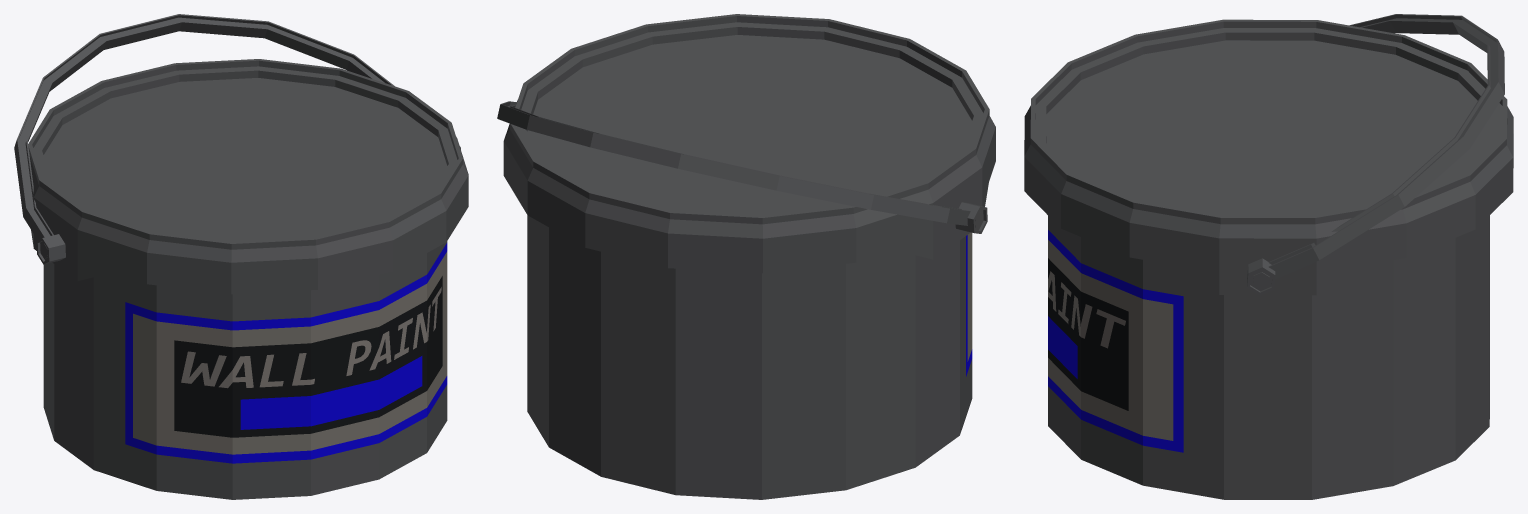
The model's file is SM_A_TIN_OF_PAINT_RED_CLOSED.gltf.
The picture shows the model from 3 angles, left to right: view 1: azimuth 30°, elevation 25°; view 2: azimuth 150°, elevation 25°; view 3: azimuth 270°, elevation 25°; orthographic projection. The views are drawn at different scales.
Visible parts, largest first — view 1: SM_A_TIN_OF_PAINT_RED_CLOSED; view 2: SM_A_TIN_OF_PAINT_RED_CLOSED; view 3: SM_A_TIN_OF_PAINT_RED_CLOSED.
Boxes of the visible parts, x1,y1,x2,y2 form: SM_A_TIN_OF_PAINT_RED_CLOSED: [14, 14, 468, 499]; SM_A_TIN_OF_PAINT_RED_CLOSED: [497, 14, 995, 499]; SM_A_TIN_OF_PAINT_RED_CLOSED: [1024, 14, 1513, 499].
Size of the model in its own units: 0.3455 by 0.252 by 0.3227.
